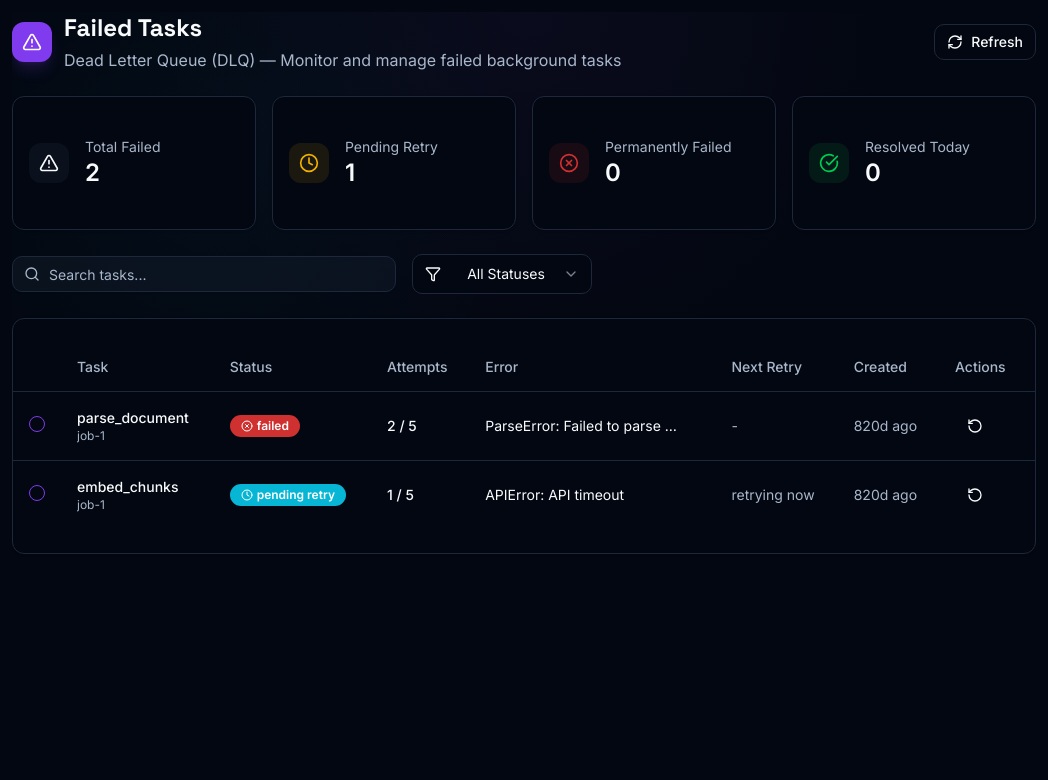
Test: DLQ Dashboard Filtering › should filter tasks by error message
This screenshot has width=1048, height=780.
Expected: the text "parse_document" is shown, top-left (77, 408), bottom-right (198, 428)
Type "timeout" into the field with placeholder "Search tasks..." at [204, 274], box top-left (12, 256), bottom-right (396, 292)
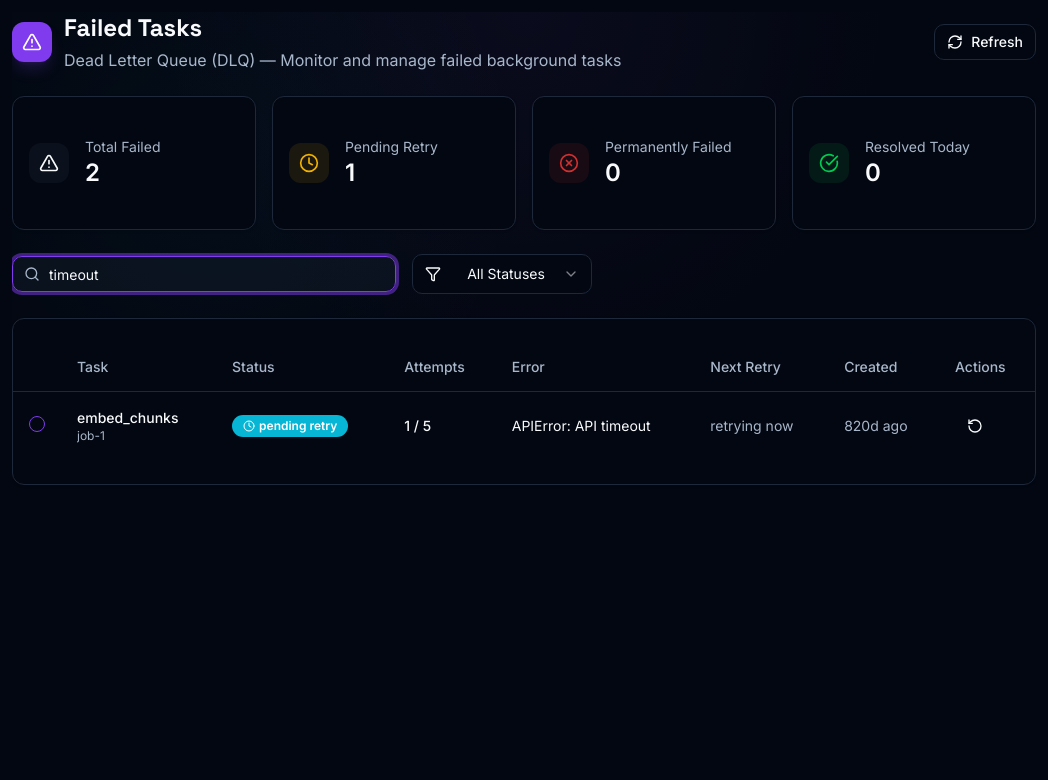
Expected: the text "embed_chunks" is shown, top-left (77, 408), bottom-right (178, 426)
Expected: the text "parse_document" is gone
